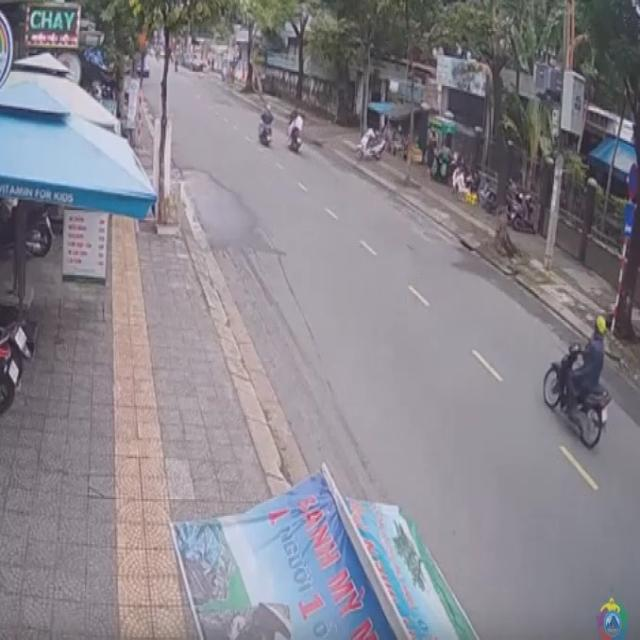motorbike: (540, 323, 614, 452), (288, 108, 306, 156), (259, 106, 274, 150)
